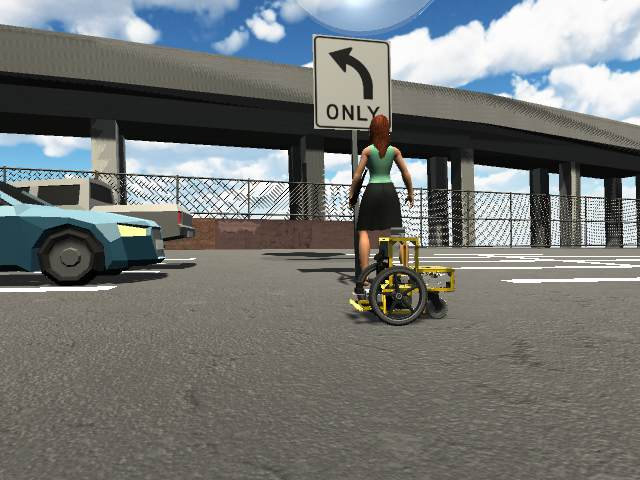arrow_left: (327, 44, 376, 99)
